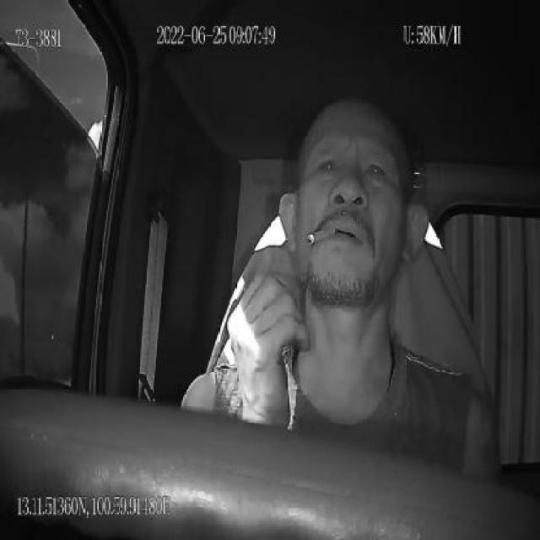smoking: (306, 226, 337, 248)
